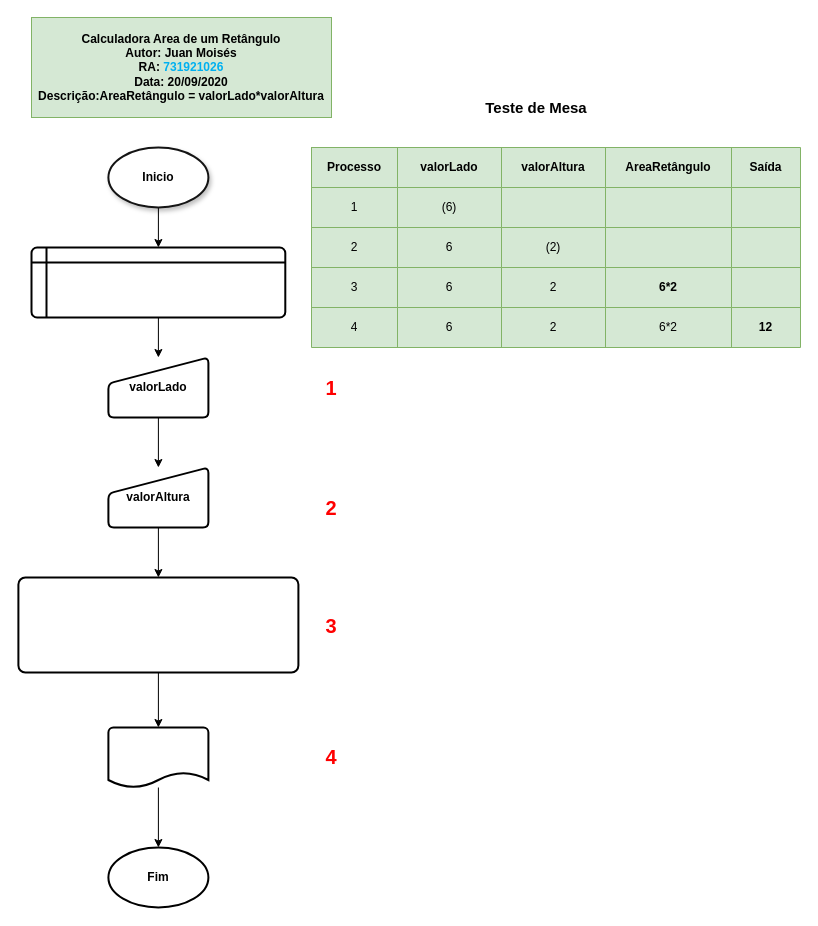
The diagram is 818 pixels wide and 926 high, and some of its shapes have lost their labels. The centre of each missing label's shape, as x and y in pixels:
"AreaRetângulo = valorLado*valorAltura" belongs at (x=158, y=624).
"AreaRetângulo,valorLado,valorAltura" belongs at (x=158, y=282).
"AreaRetãngulo" belongs at (x=158, y=757).
